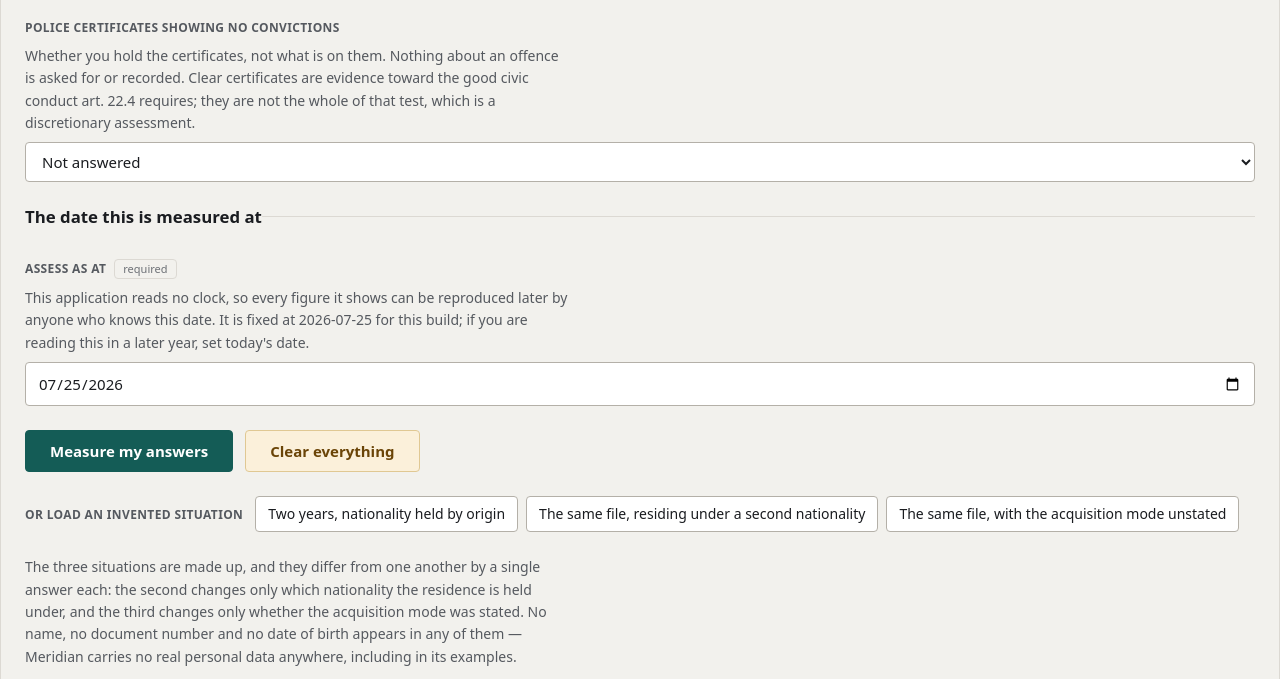
Test: the three cases, on screen › shows a Mexican national by origin with two years as meeting the reduced criteria
(page scrolled)
Click the button "Two years, nationality held by origin": [387, 514] box [255, 496, 518, 532]
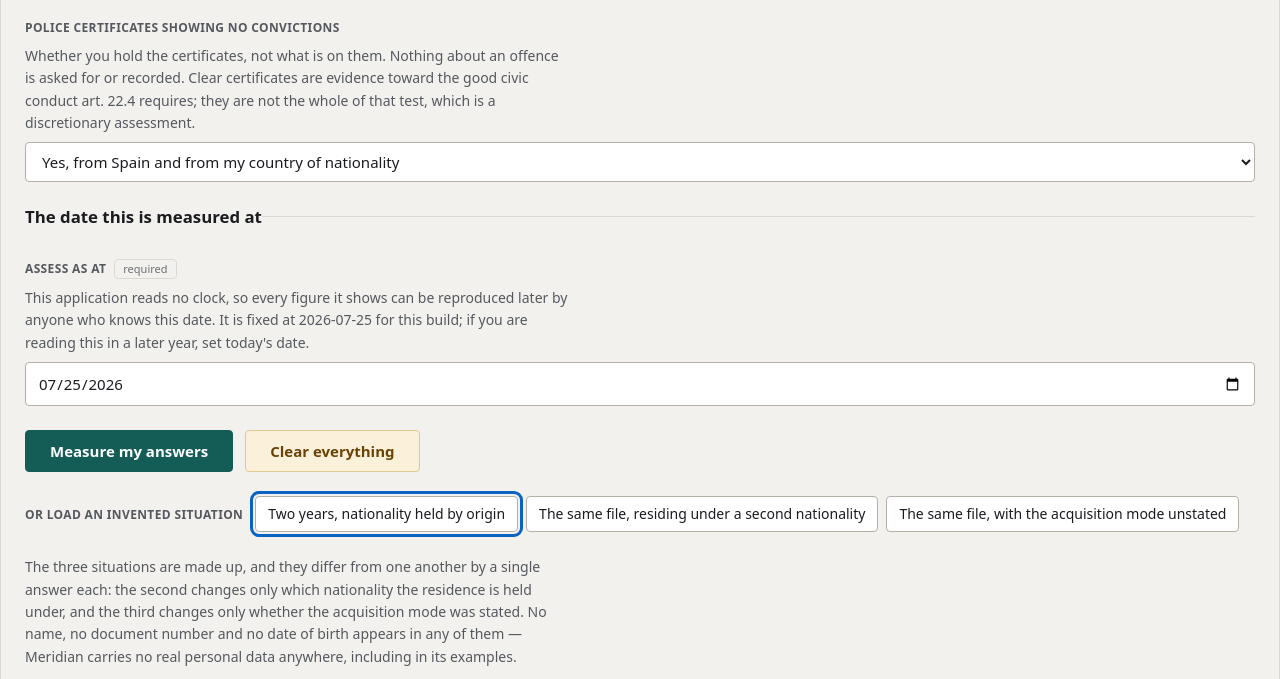
Click the button "Measure my answers": [129, 451] box [25, 430, 233, 472]
(page scrolled)
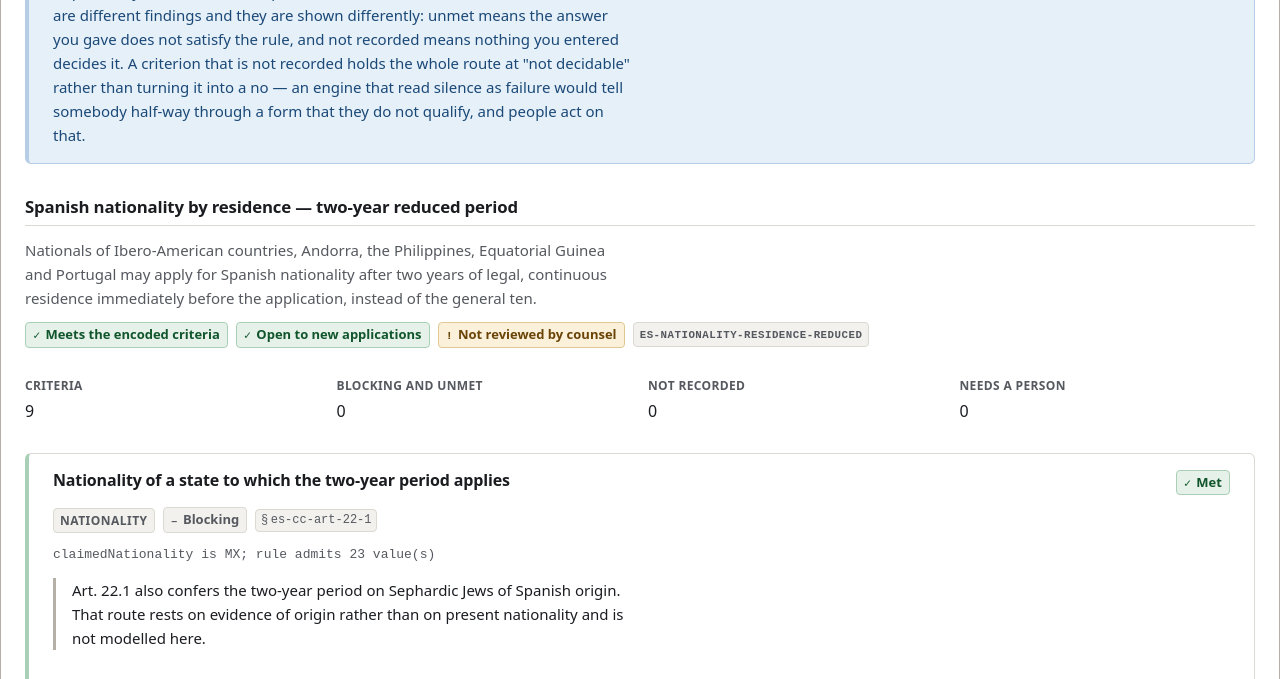
Now the text "Meets the encoded criteria" is shown, box [45, 325, 220, 343]
